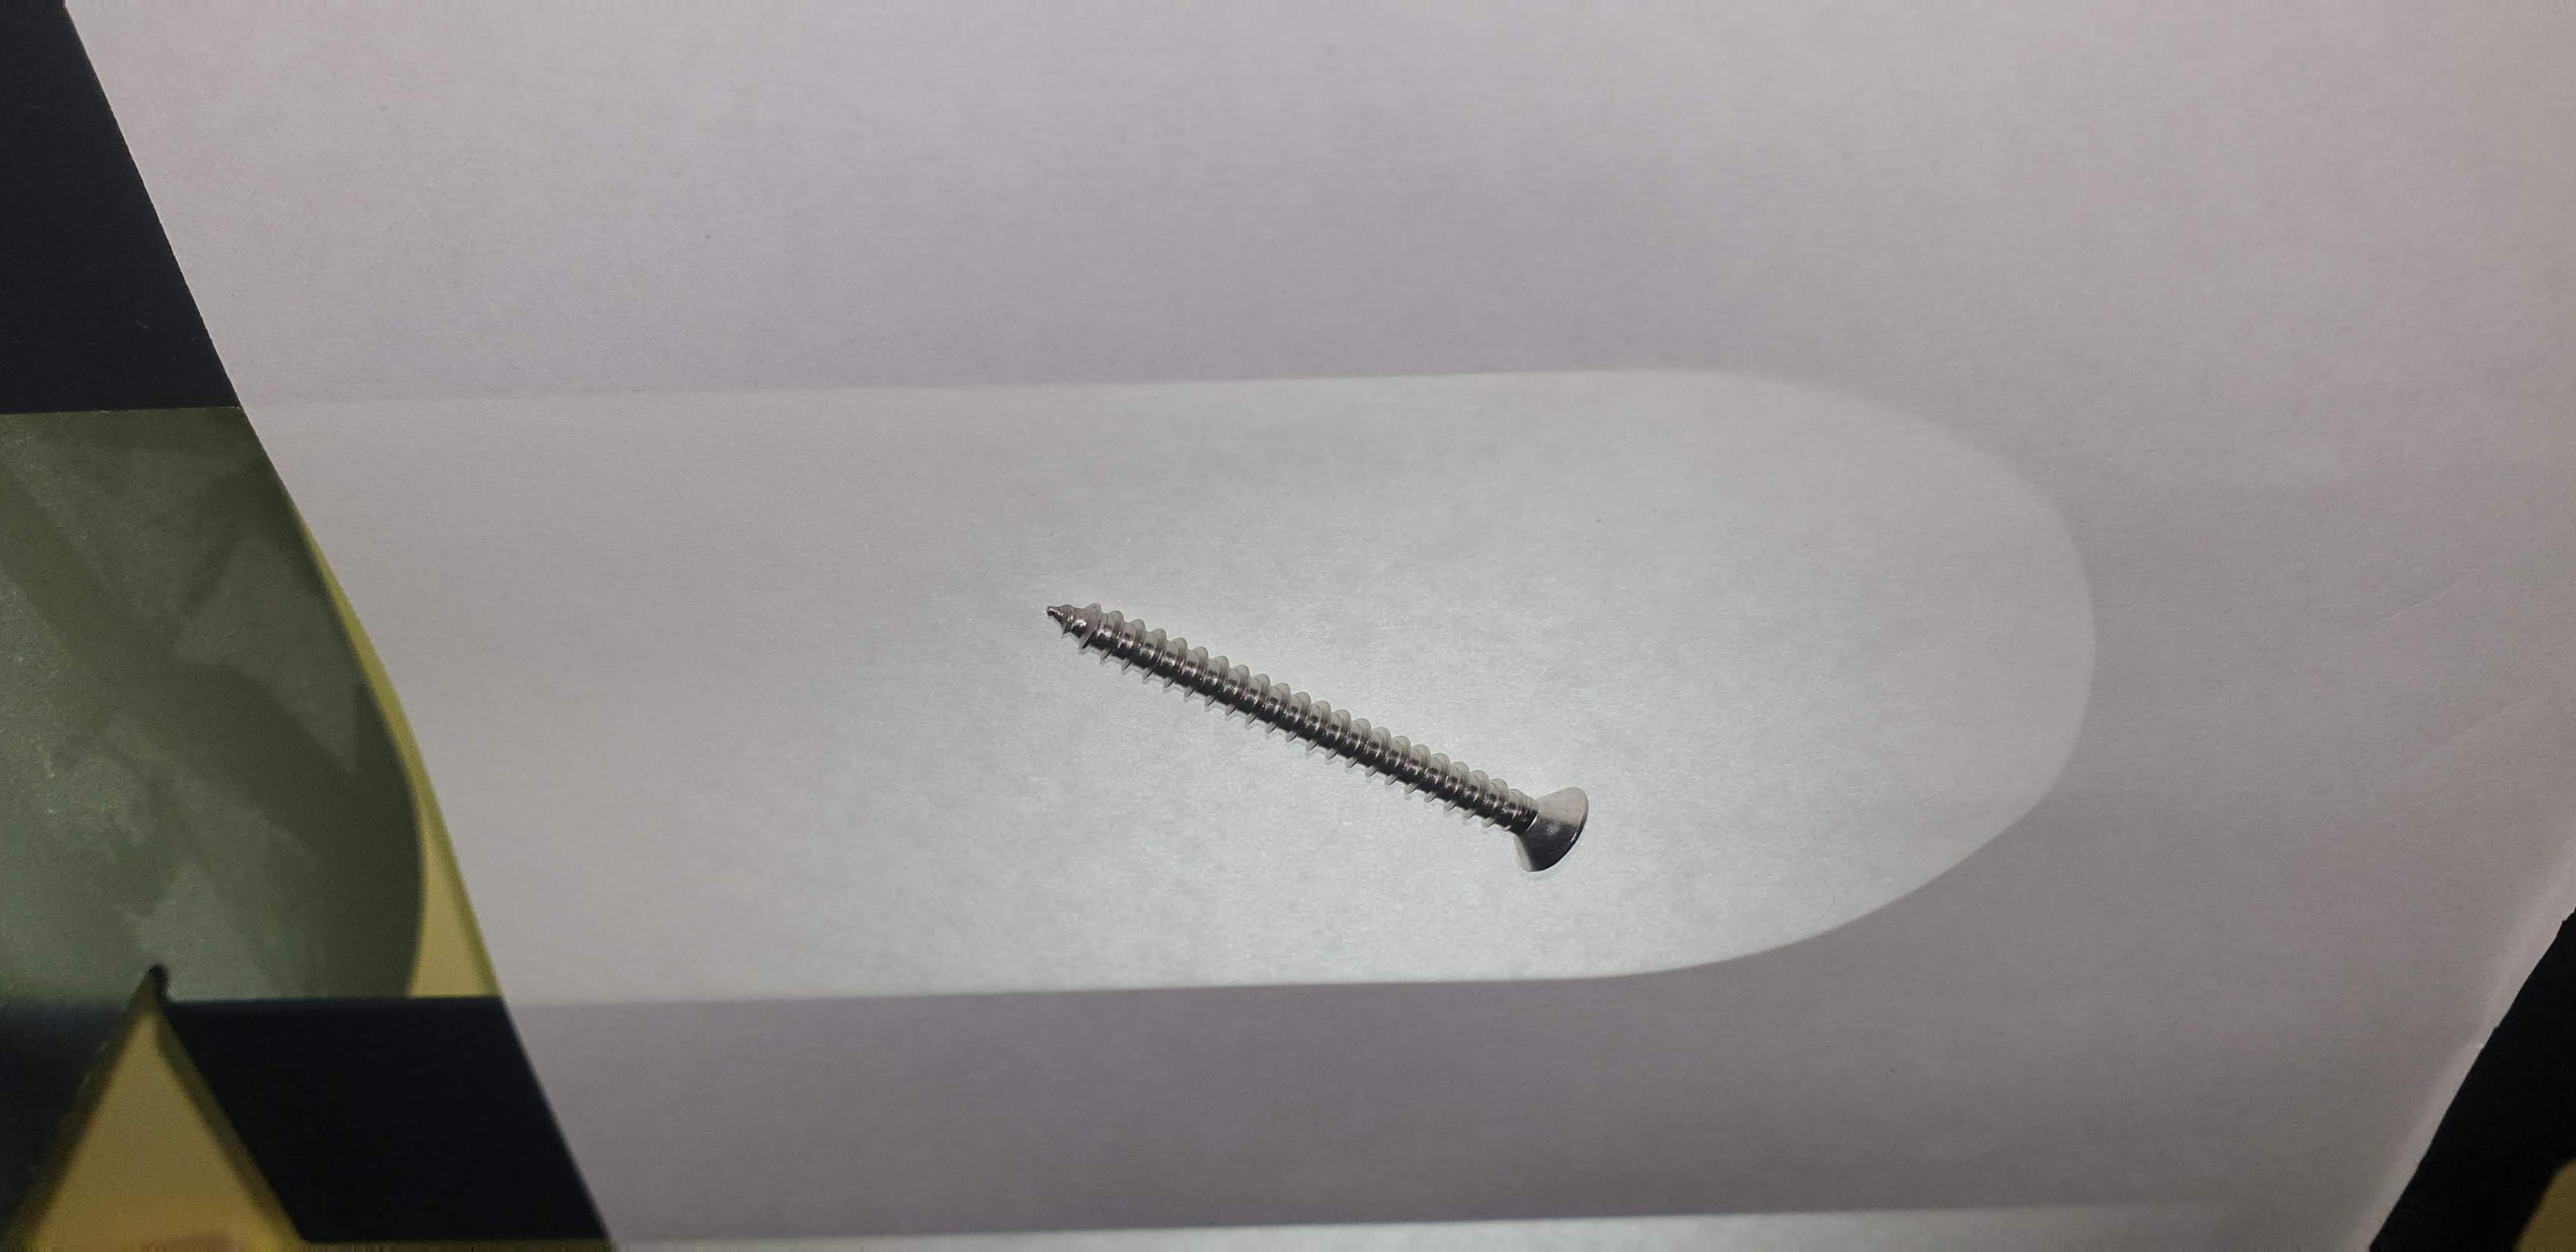fastener: (1004, 545, 1661, 907)
